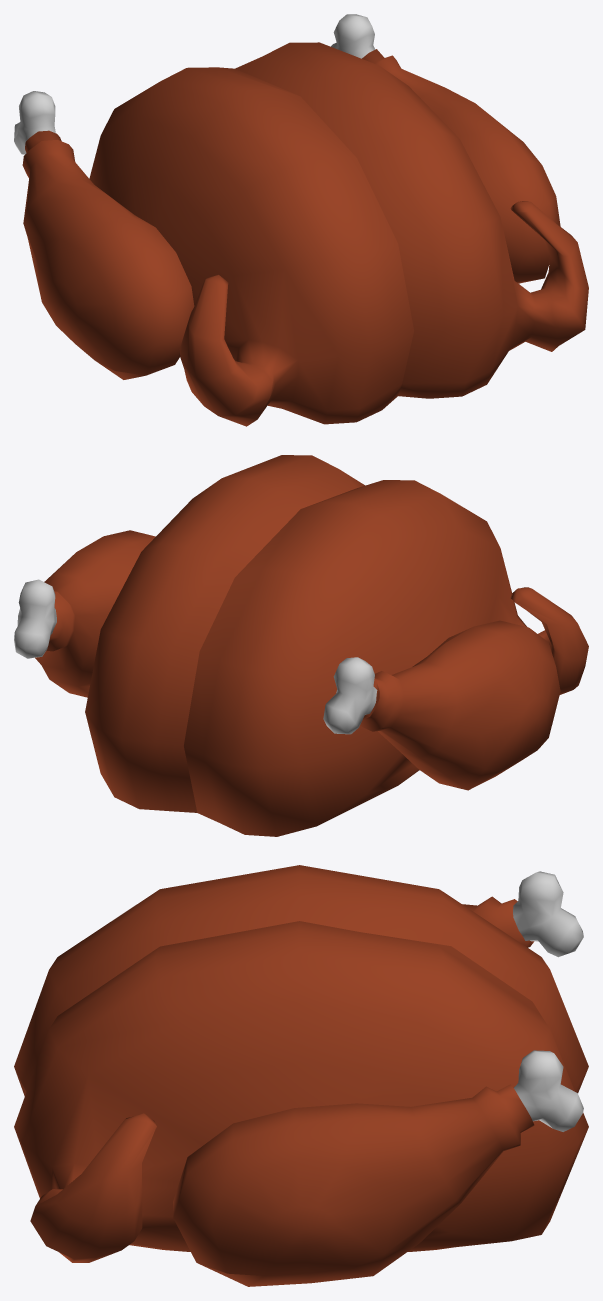
File: chicken.obj
3 renders of one model, top to bottom at view 1: azimuth 30°, elevation 25°; view 2: azimuth 150°, elevation 25°; view 3: azimuth 270°, elevation 25°, orthographic. The views are drawn at different scales.
Parts seen in each view (by area): view 1: chicken_Cube.6075; view 2: chicken_Cube.6075; view 3: chicken_Cube.6075.
Boxes of the visible parts, x1=… form: chicken_Cube.6075: x1=14, y1=14, x2=588, y2=426; chicken_Cube.6075: x1=14, y1=455, x2=588, y2=836; chicken_Cube.6075: x1=14, y1=865, x2=588, y2=1286.
Size of the model in its own units: 0.8505 by 0.4669 by 0.7708.
